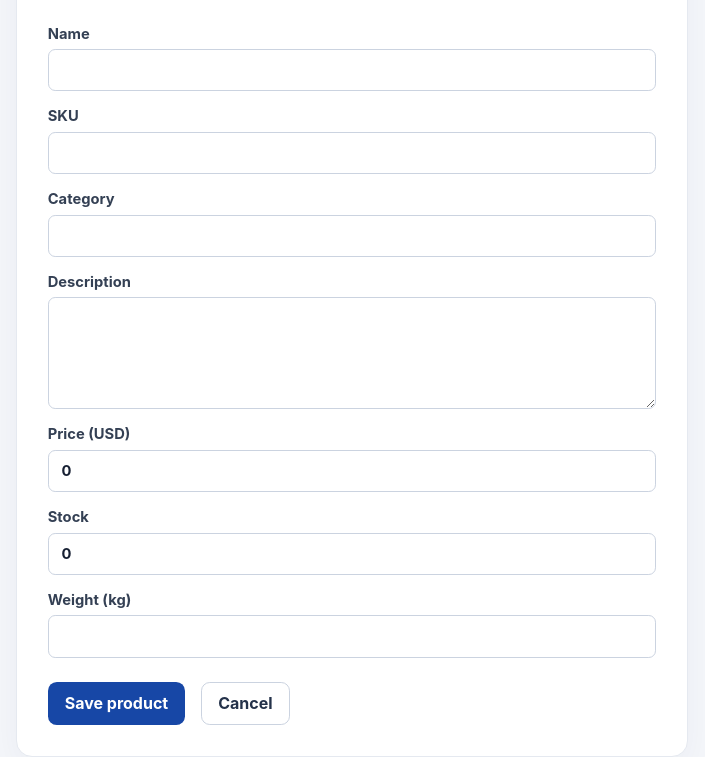
Test: admin product form validation › validates required fields before sending a product form
(page scrolled)
Click the button "Save product": (116, 703) [48,682,185,725]
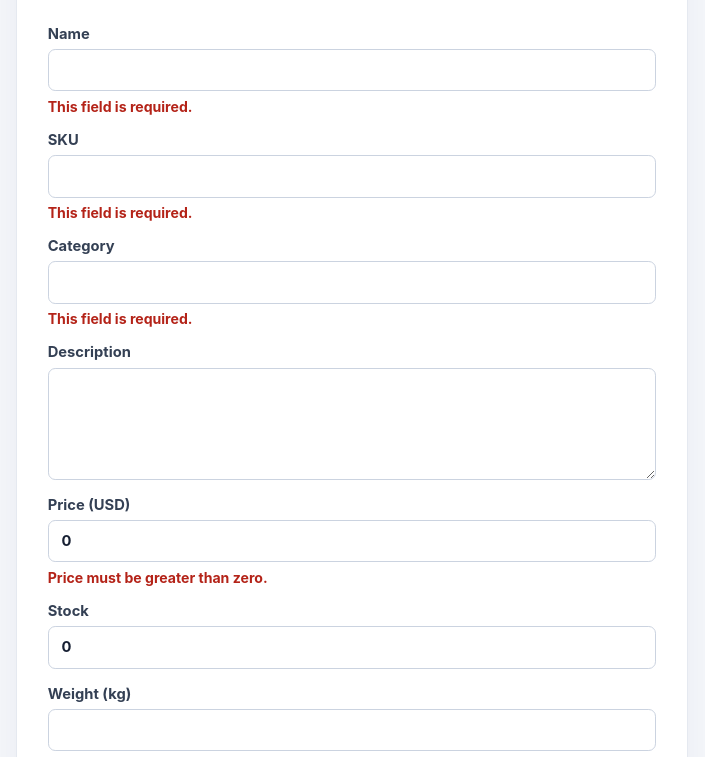
Now the number of messages is 4, box [48,98,192,115]; [48,204,192,221]; [48,310,192,327]; [48,569,268,586]
